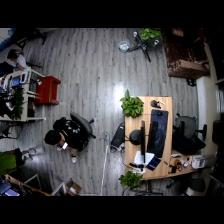normal: (42, 118, 86, 167), (5, 49, 23, 65)
